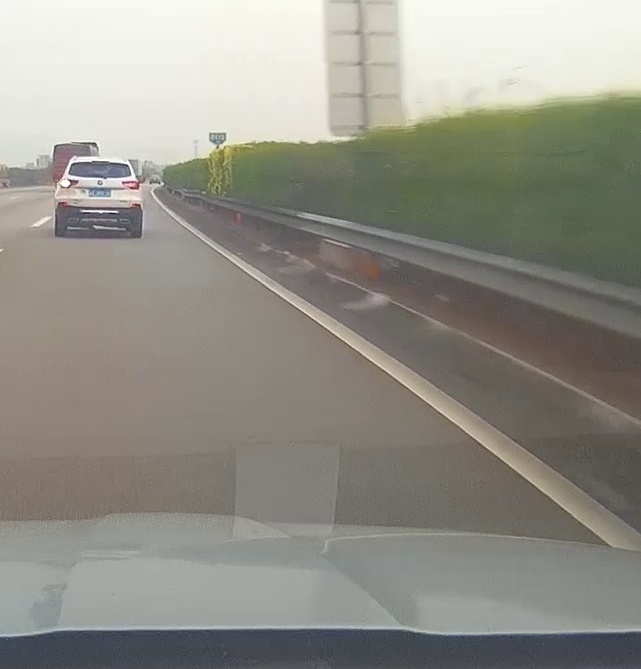L_light: (59, 180, 78, 188)
R_light: (121, 181, 140, 190)
T_light: (92, 160, 110, 164)
day-left: (54, 156, 142, 237)
